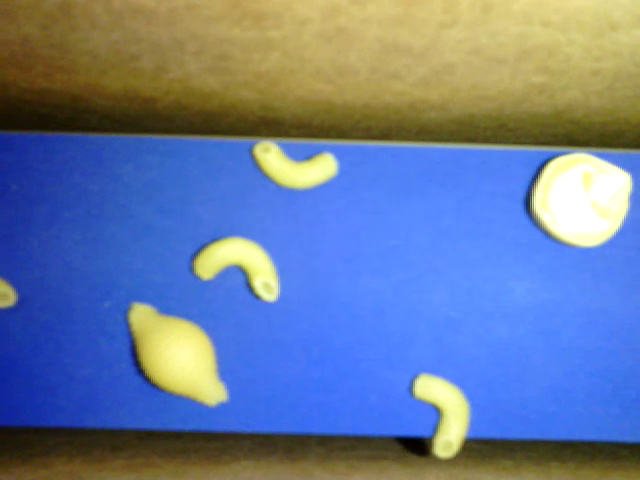elbow: (192, 235, 281, 303), (411, 369, 470, 459), (252, 137, 339, 190)
shell: (126, 301, 229, 408)
tortellini: (526, 151, 632, 249)
